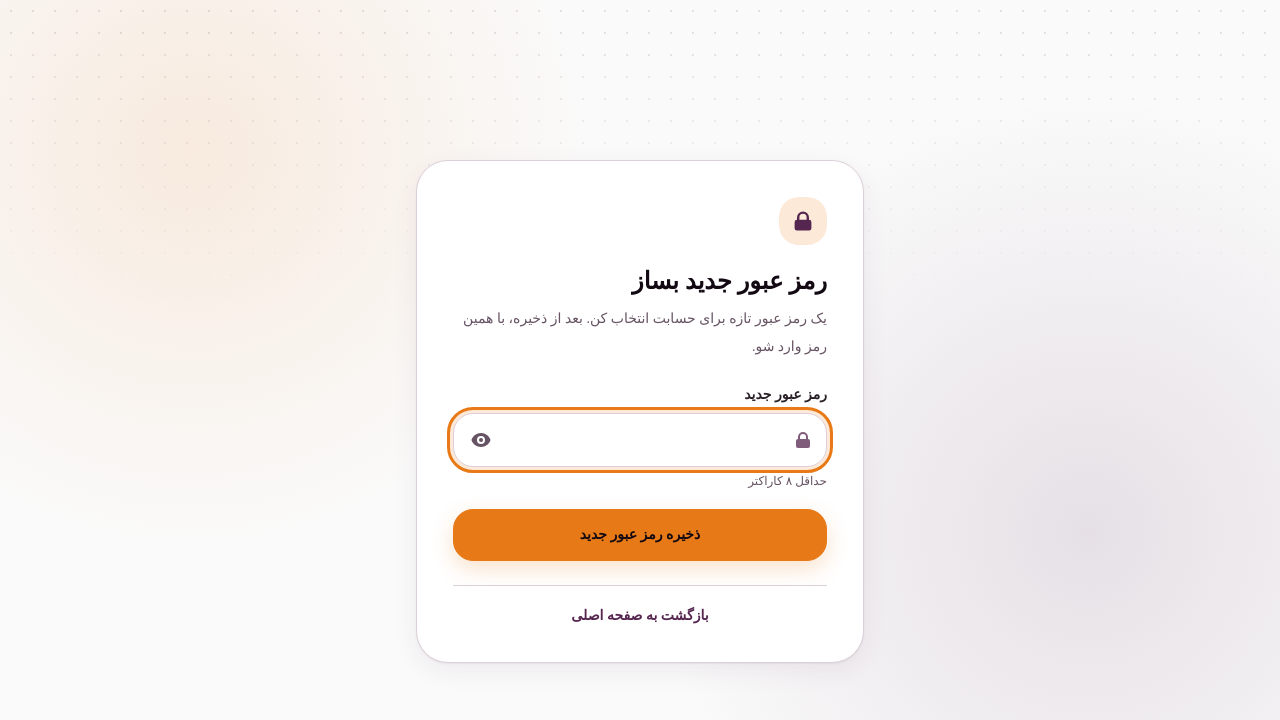
Test: ResetPasswordPage › explains a rejected password under the field and keeps the form
In the password field labelled "رمز عبور جدید": [640, 440] box [453,413,827,467], type "12345678"
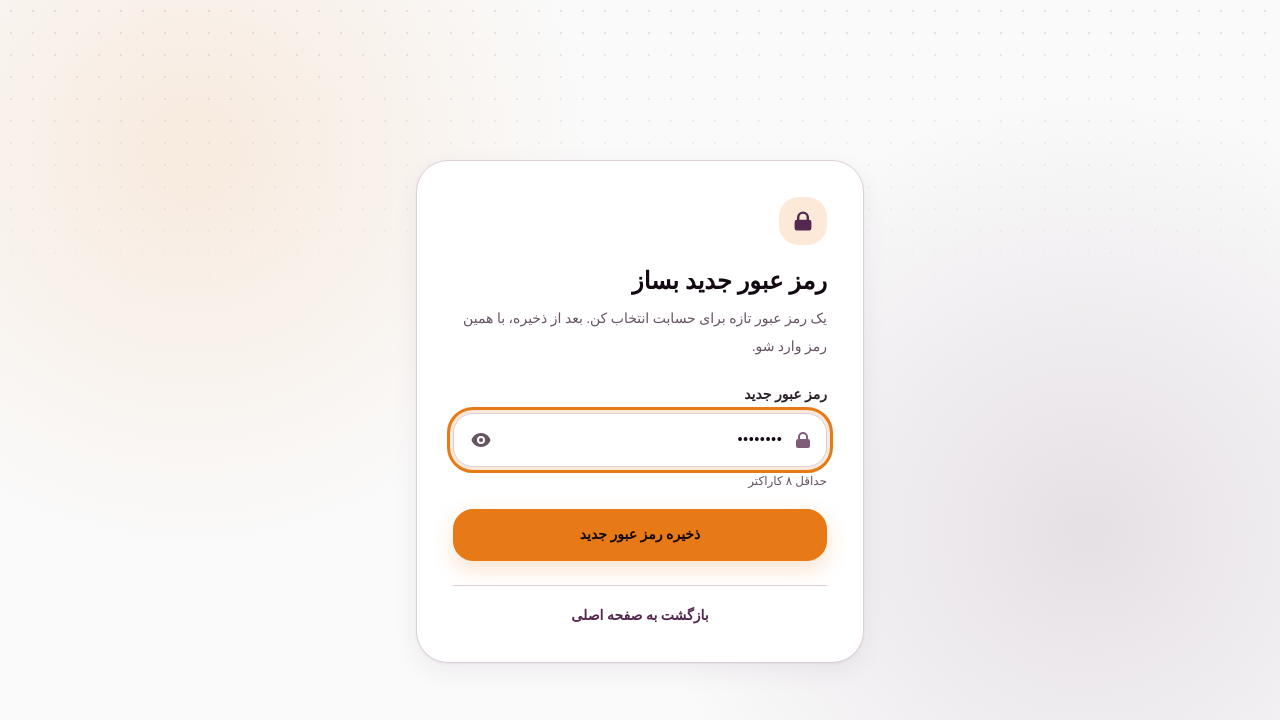
Click the button "ذخیره رمز عبور جدید": [640, 535] box [453,509,827,561]
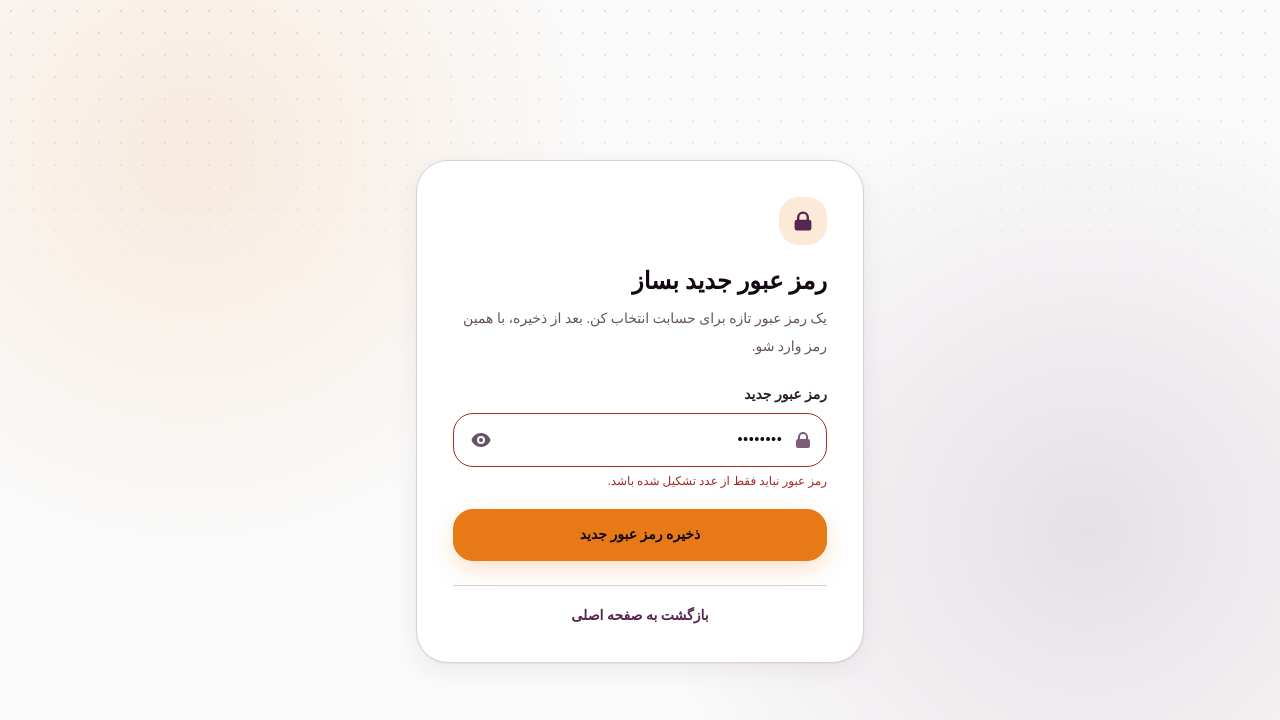
Now the text "رمز عبور نباید فقط از عدد تشکیل شده باشد." is shown, box [608,474,827,488]
